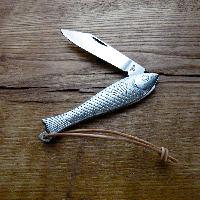knife: (41, 22, 168, 149)
